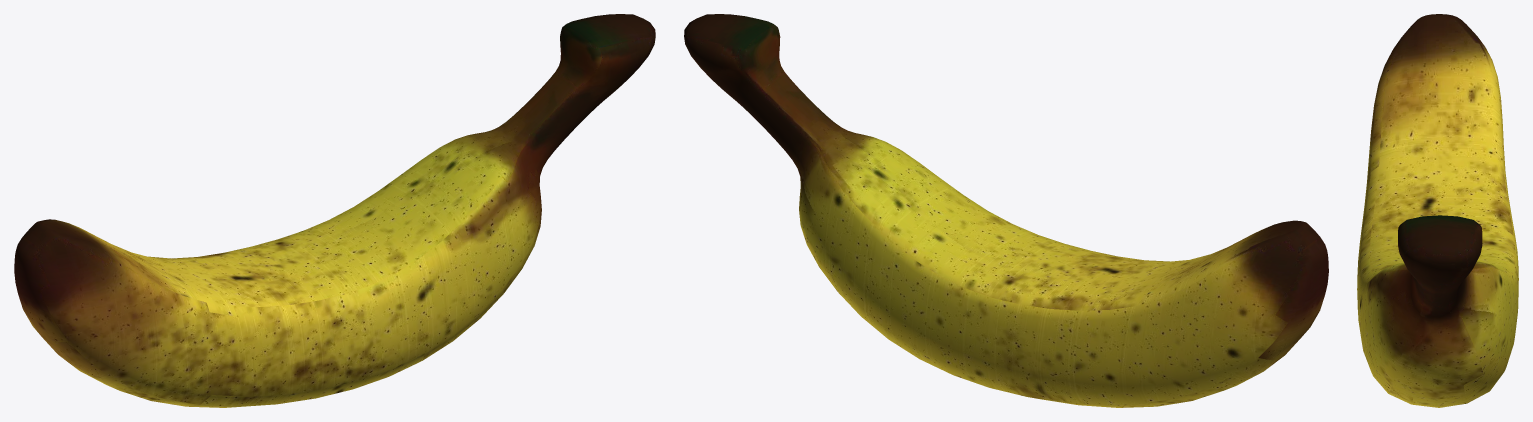
File: banana-transformed.glb
The picture shows the model from 3 angles, left to right: view 1: azimuth 30°, elevation 25°; view 2: azimuth 150°, elevation 25°; view 3: azimuth 270°, elevation 25°; orthographic projection.
Visible parts, largest first — view 1: Cube; view 2: Cube; view 3: Cube.
Part boxes in pixels (bbox=[...]): Cube: bbox=[14, 14, 655, 407]; Cube: bbox=[684, 14, 1328, 407]; Cube: bbox=[1357, 14, 1518, 407].
Bounding box in the file's own units: 11.21 × 4.92 × 2.47.
Materials: 1 (1 with a texture image).
